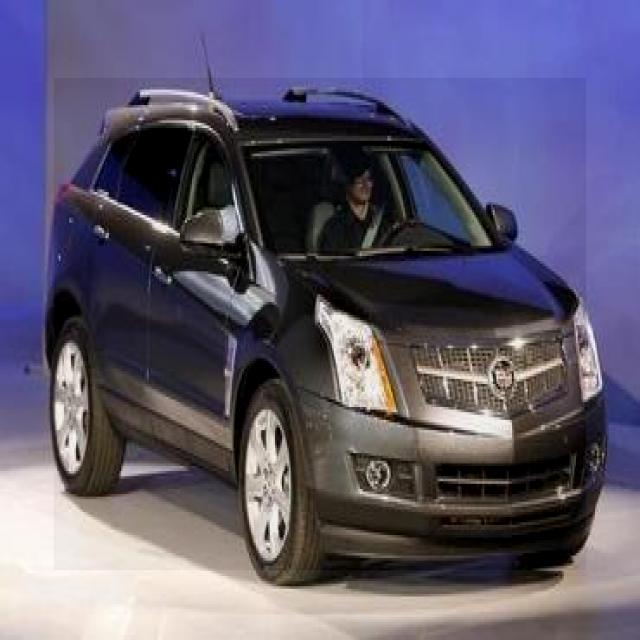Car: (54, 78, 586, 570)
